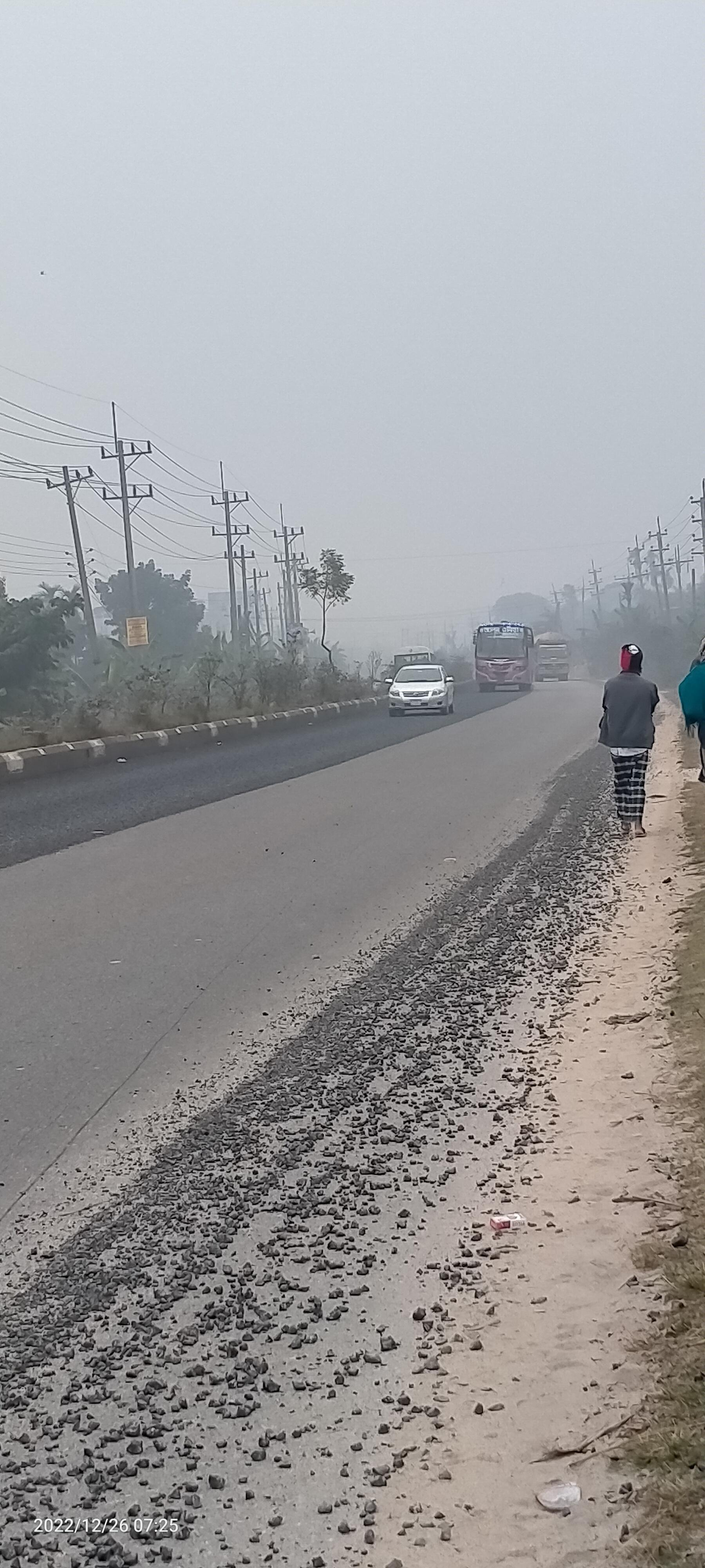Bus: (465, 614, 537, 701)
Car: (378, 661, 465, 723)
Truck: (533, 630, 574, 688)
